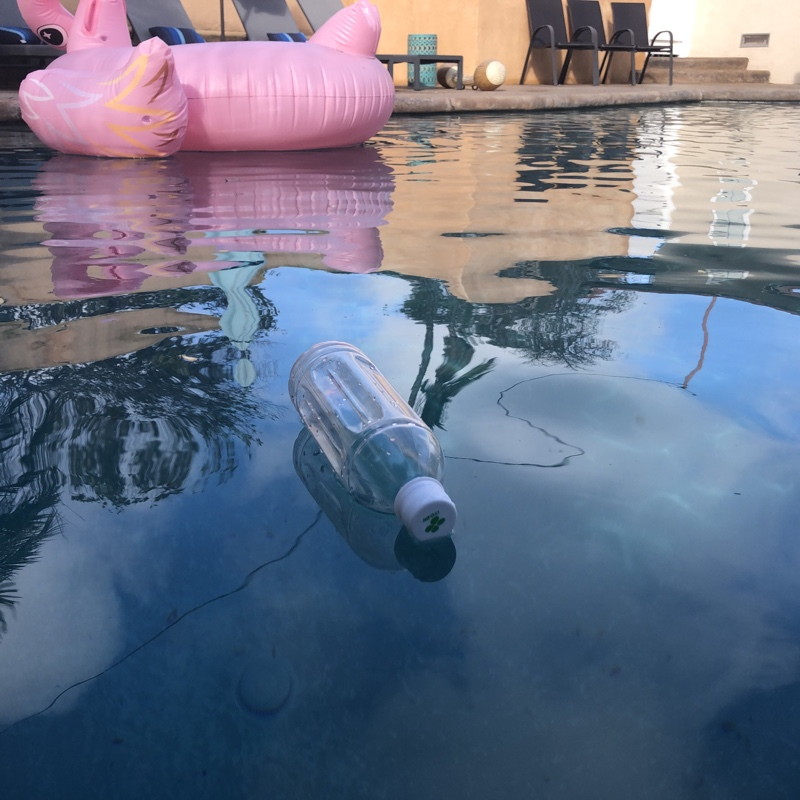Plastic Bottle: (284, 337, 460, 550)
